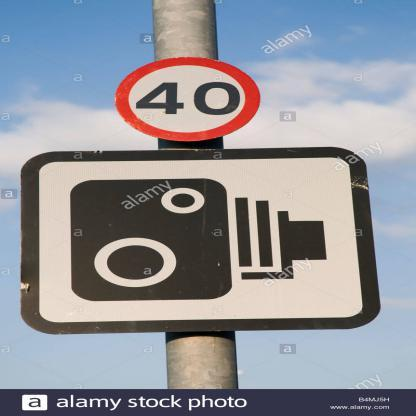Speed Limit 40: (121, 59, 260, 139)
